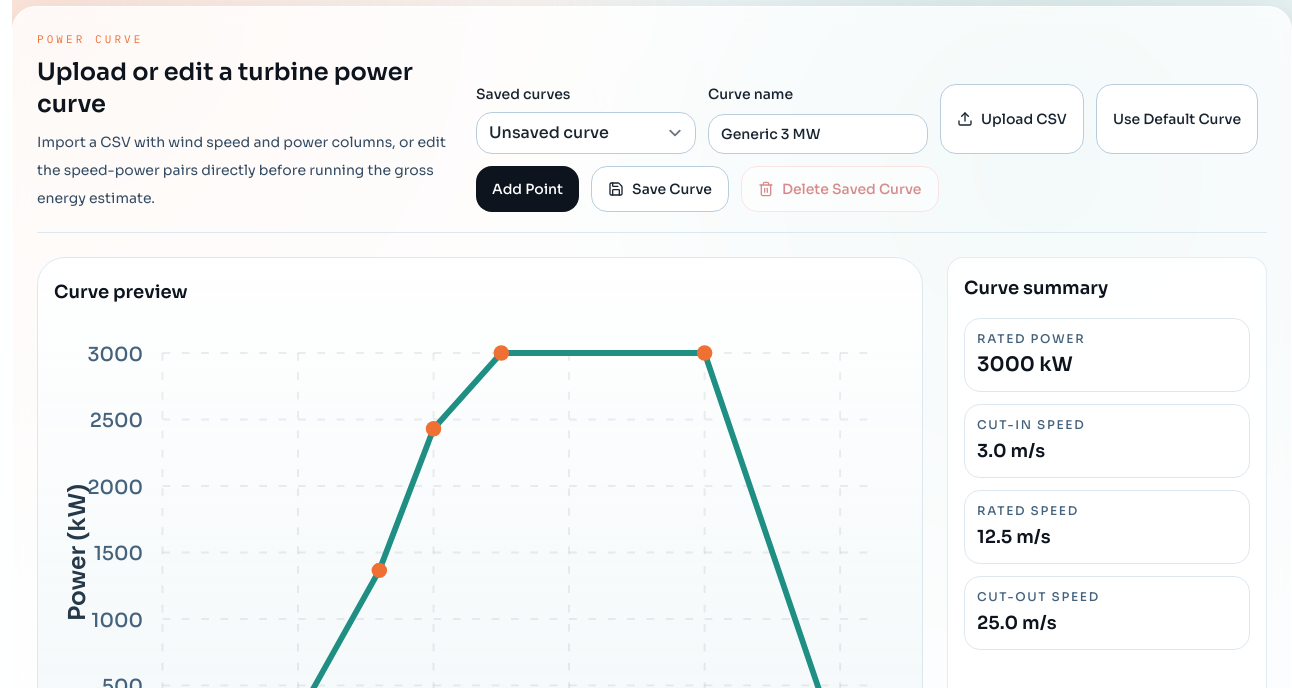
Test case: can save a new curve and run an energy estimate
Select "Unsaved curve" in the dropdown labelled "Saved curves": (586, 132) [476,112,696,154]
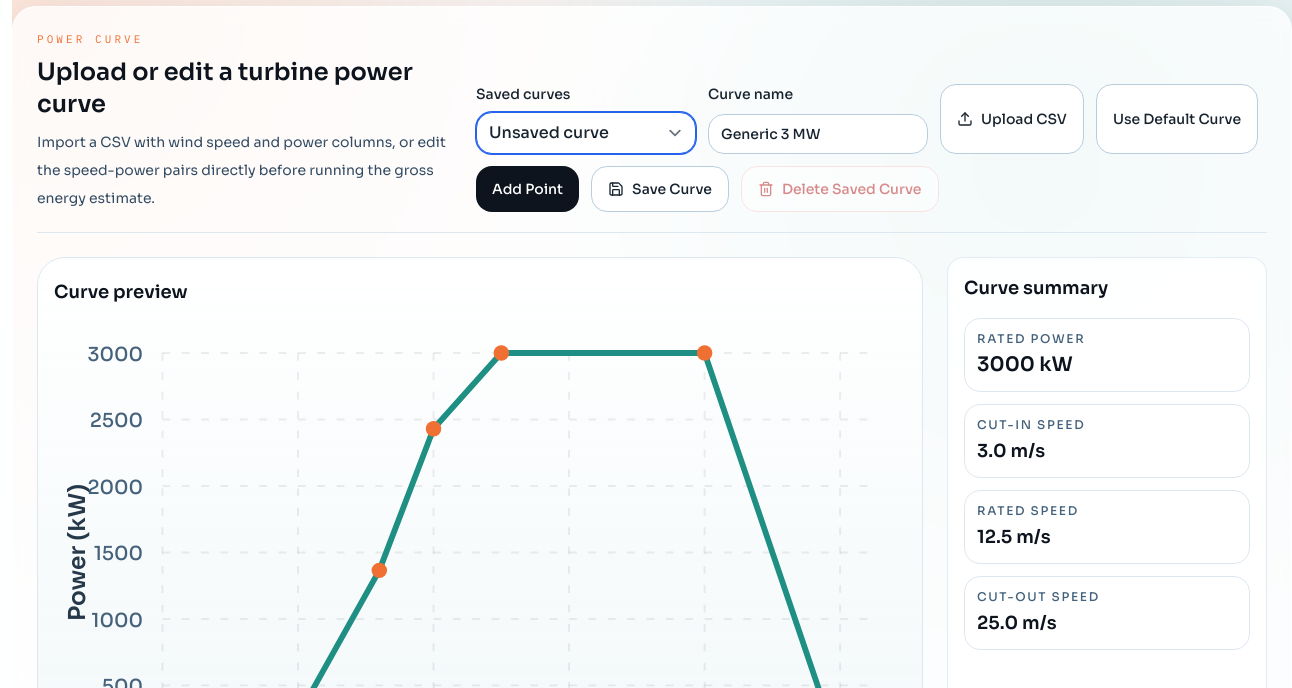
Replace the text in the field labelled "Curve name" with "New Saved Curve": (818, 134) [708,114,928,154]
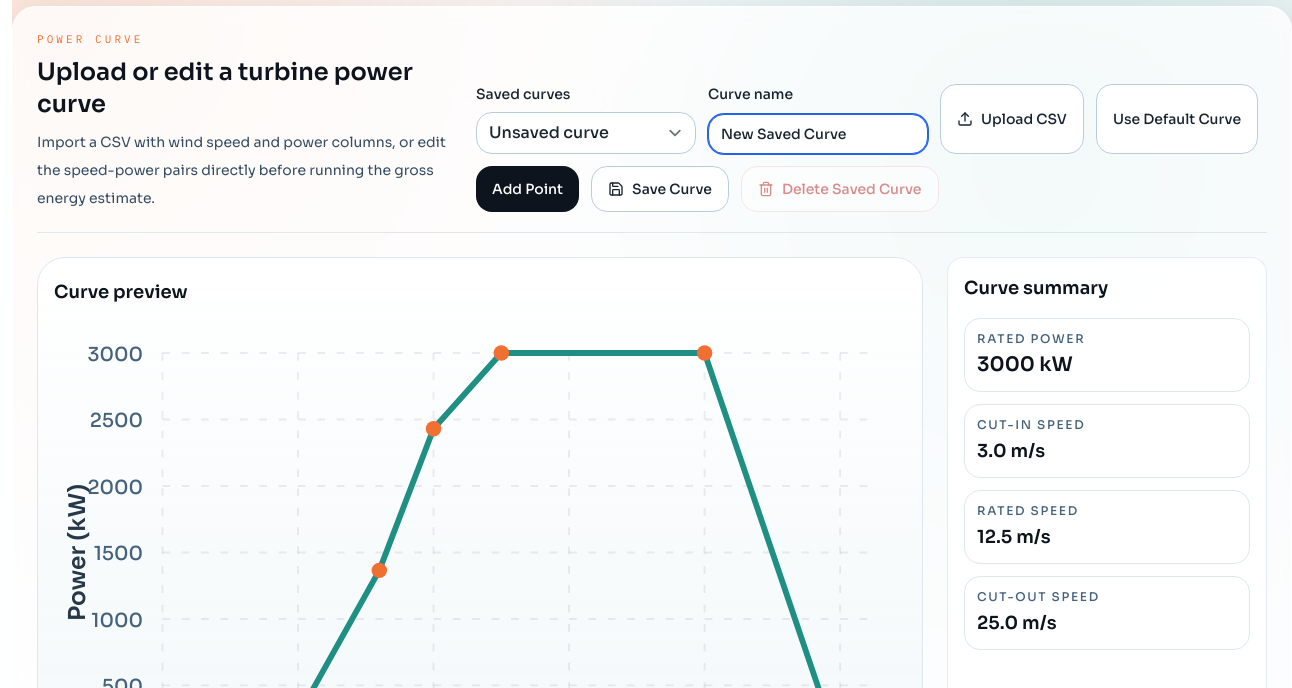
Click the button "Save Curve": (660, 188) [591,166,729,212]
(page scrolled)
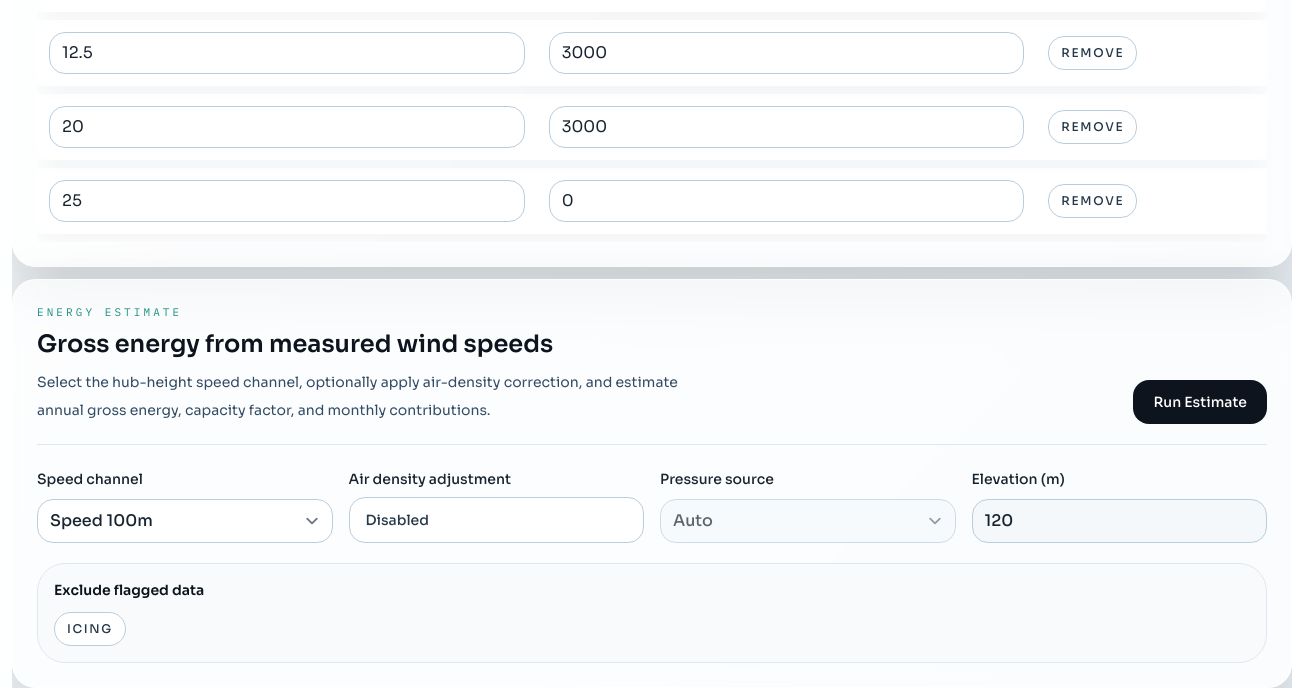
Select "Speed 100m" in the dropdown labelled "Speed channel": (185, 522) [37,500,332,544]
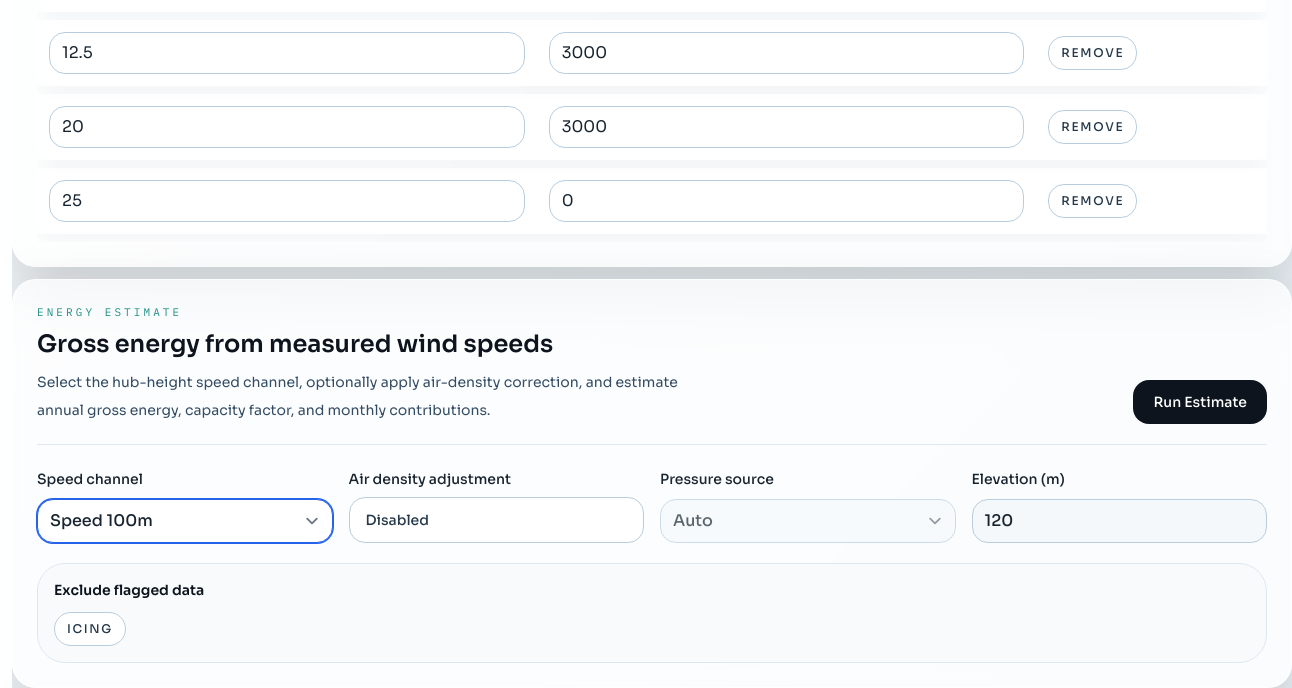
Click the button "Run Estimate": (1200, 402) [1134,380,1267,424]
(page scrolled)
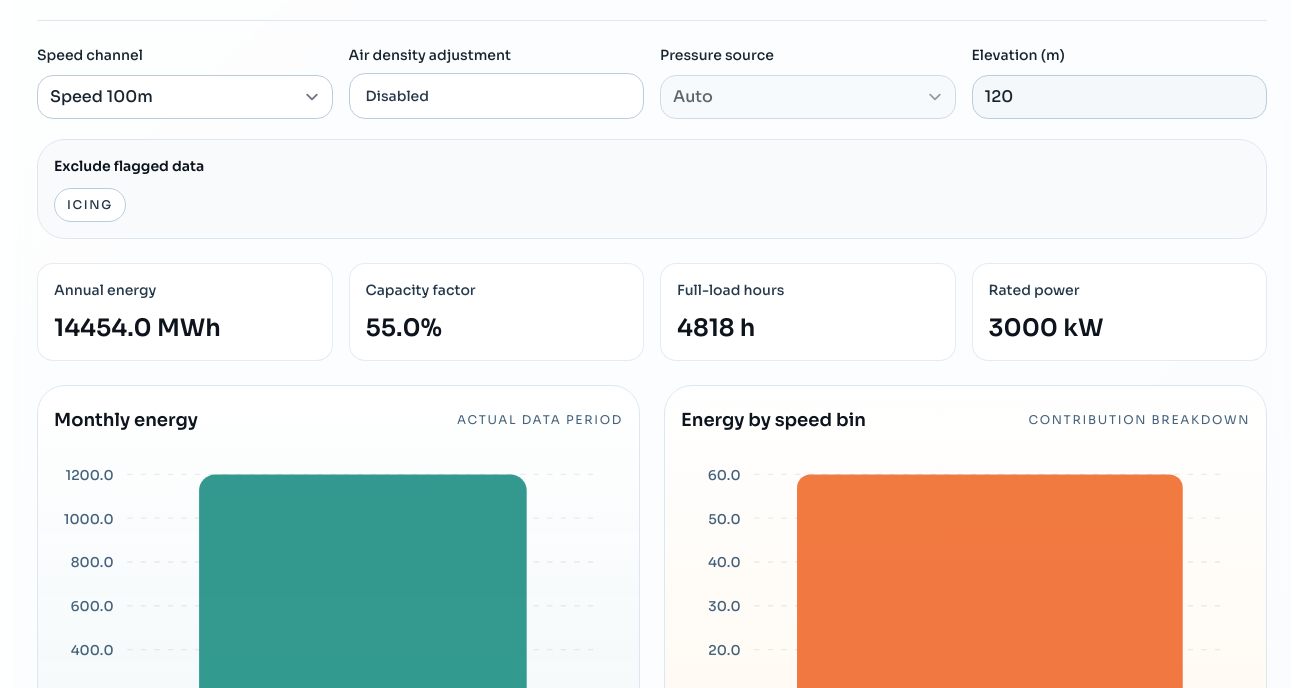
Result: the text "14454.0 MWh" is shown at [54,314,221,344]
